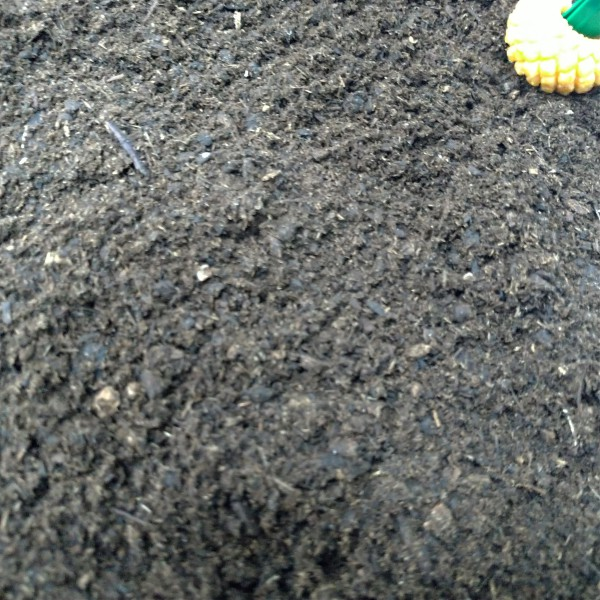eggs: (496, 1, 599, 103)
